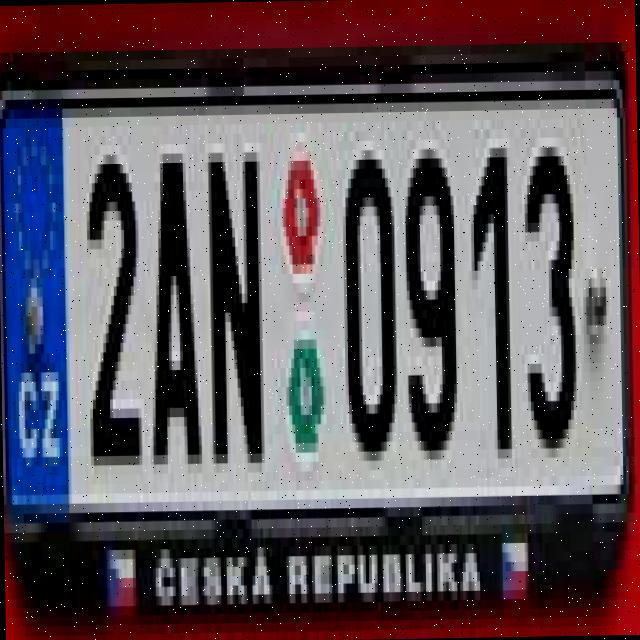EU: (0, 77, 624, 509)
Tcheque: (0, 95, 68, 507)
